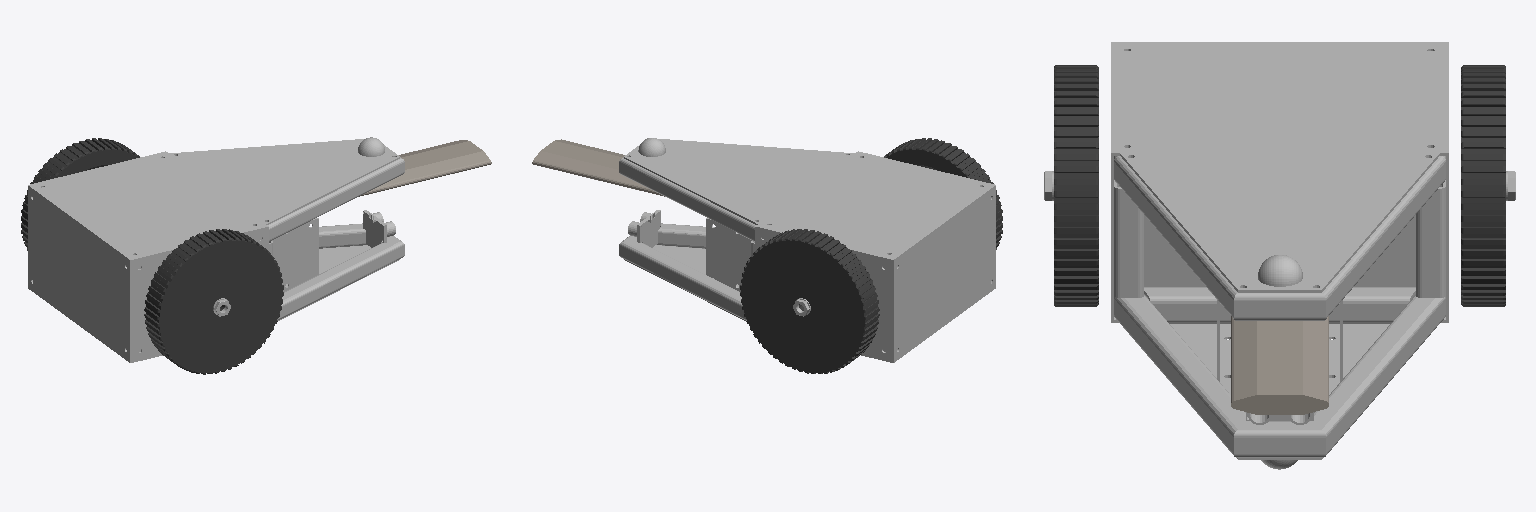
URDF robot description (robotti_9):
<?xml version="1.0" encoding="utf-8"?>
<!-- This URDF was automatically created by SolidWorks to URDF Exporter! Originally created by [author] ([email redacted]) 
     Commit Version: 1.5.1-0-g916b5db  Build Version: 1.5.7152.31018
     For more information, please see http://wiki.ros.org/sw_urdf_exporter -->
<robot
  name="robotti_9">
  <link
    name="base_link">
    <inertial>
      <origin
        xyz="-0.20109 0.00031558 0.073786"
        rpy="0 0 0" />
      <mass
        value="8.8662" />
      <inertia
        ixx="0.018873"
        ixy="7.9863E-06"
        ixz="-0.00013642"
        iyy="0.014385"
        iyz="7.753E-08"
        izz="0.025714" />
    </inertial>
    <visual>
      <origin
        xyz="0 0 0"
        rpy="0 0 0" />
      <geometry>
        <mesh
          filename="package://robotti_9/meshes/base_link.STL" />
      </geometry>
      <material
        name="">
        <color
          rgba="0.75294 0.75294 0.75294 1" />
      </material>
    </visual>
    <collision>
      <origin
        xyz="0 0 0"
        rpy="0 0 0" />
      <geometry>
        <mesh
          filename="package://robotti_9/meshes/base_hitbox.STL" />
      </geometry>
    </collision>
  </link>
  <link
    name="weapon_link">
    <inertial>
      <origin
        xyz="0 2.7756E-17 0"
        rpy="0 0 0" />
      <mass
        value="1.8773" />
      <inertia
        ixx="0.00053661"
        ixy="-1.3049E-18"
        ixz="1.4272E-14"
        iyy="0.016701"
        iyz="-1.0471E-19"
        izz="0.017183" />
    </inertial>
    <visual>
      <origin
        xyz="0 0 0"
        rpy="0 0 0" />
      <geometry>
        <mesh
          filename="package://robotti_9/meshes/weapon_link.STL" />
      </geometry>
      <material
        name="">
        <color
          rgba="0.64706 0.61961 0.58824 1" />
      </material>
    </visual>
    <collision>
      <origin
        xyz="0 0 0"
        rpy="0 0 0" />
      <geometry>
        <mesh
          filename="package://robotti_9/meshes/weapon_link.STL" />
      </geometry>
    </collision>
  </link>
  <joint
    name="weapon_joint"
    type="continuous">
    <origin
      xyz="-0.027 0.0002675 0.1072"
      rpy="0 0 0" />
    <parent
      link="base_link" />
    <child
      link="weapon_link" />
    <axis
      xyz="0 0 1" />
  </joint>
  <link
    name="l_wheel_link">
    <inertial>
      <origin
        xyz="3.6082E-16 -0.012645 -2.8866E-15"
        rpy="0 0 0" />
      <mass
        value="0.46812" />
      <inertia
        ixx="0.0009439"
        ixy="-1.0482E-17"
        ixz="4.0042E-18"
        iyy="0.0018198"
        iyz="-5.2295E-18"
        izz="0.0009439" />
    </inertial>
    <visual>
      <origin
        xyz="0 0 0"
        rpy="0 0 0" />
      <geometry>
        <mesh
          filename="package://robotti_9/meshes/l_wheel_link.STL" />
      </geometry>
      <material
        name="">
        <color
          rgba="0.29804 0.29804 0.29804 1" />
      </material>
    </visual>
    <collision>
      <origin
        xyz="0 0 0"
        rpy="0 0 0" />
      <geometry>
        <mesh
          filename="package://robotti_9/meshes/l_wheel_link.STL" />
      </geometry>
    </collision>
  </link>
  <joint
    name="l_wheel_joint"
    type="continuous">
    <origin
      xyz="-0.276 0.15027 0.076995"
      rpy="0 0 0" />
    <parent
      link="base_link" />
    <child
      link="l_wheel_link" />
    <axis
      xyz="0 1 0" />
  </joint>
  <link
    name="r_wheel_link">
    <inertial>
      <origin
        xyz="3.3307E-16 0.012645 2.7409E-15"
        rpy="0 0 0" />
      <mass
        value="0.46812" />
      <inertia
        ixx="0.0009439"
        ixy="1.046E-17"
        ixz="-4.1427E-18"
        iyy="0.0018198"
        iyz="-1.2713E-17"
        izz="0.0009439" />
    </inertial>
    <visual>
      <origin
        xyz="0 0 0"
        rpy="0 0 0" />
      <geometry>
        <mesh
          filename="package://robotti_9/meshes/r_wheel_link.STL" />
      </geometry>
      <material
        name="">
        <color
          rgba="0.29804 0.29804 0.29804 1" />
      </material>
    </visual>
    <collision>
      <origin
        xyz="0 0 0"
        rpy="0 0 0" />
      <geometry>
        <mesh
          filename="package://robotti_9/meshes/r_wheel_link.STL" />
      </geometry>
    </collision>
  </link>
  <joint
    name="r_wheel_joint"
    type="continuous">
    <origin
      xyz="-0.276 -0.14973 0.076995"
      rpy="0 0 0" />
    <parent
      link="base_link" />
    <child
      link="r_wheel_link" />
    <axis
      xyz="0 1 0" />
  </joint>
</robot>

--- Render facts (derived) ---
3 views of the same robot in one strip: view 1: azimuth 30°, elevation 25°; view 2: azimuth 150°, elevation 25°; view 3: azimuth 270°, elevation 25° (orthographic).
Robot: robotti_9 — 4 links, 3 joints (3 continuous); root link base_link; default pose: every joint at zero.
Links seen in each view (by area): view 1: base_link, r_wheel_link, weapon_link, l_wheel_link; view 2: base_link, l_wheel_link, weapon_link, r_wheel_link; view 3: base_link, l_wheel_link, r_wheel_link, weapon_link.
Link boxes in pixels (x1=…): base_link: x1=28, y1=137, x2=404, y2=362; r_wheel_link: x1=144, y1=229, x2=283, y2=374; weapon_link: x1=359, y1=140, x2=491, y2=196; l_wheel_link: x1=21, y1=138, x2=139, y2=250; base_link: x1=619, y1=138, x2=995, y2=362; l_wheel_link: x1=740, y1=229, x2=879, y2=373; weapon_link: x1=532, y1=139, x2=664, y2=196; r_wheel_link: x1=884, y1=138, x2=1002, y2=249; base_link: x1=1044, y1=42, x2=1515, y2=469; l_wheel_link: x1=1461, y1=65, x2=1505, y2=306; r_wheel_link: x1=1054, y1=65, x2=1098, y2=306; weapon_link: x1=1231, y1=316, x2=1328, y2=414.
Size in the robot's own frame: 0.5 by 0.312 by 0.1599 metres.
Meshes: 4 distinct files referenced, 4 mesh visuals loaded (4 binary STL).
